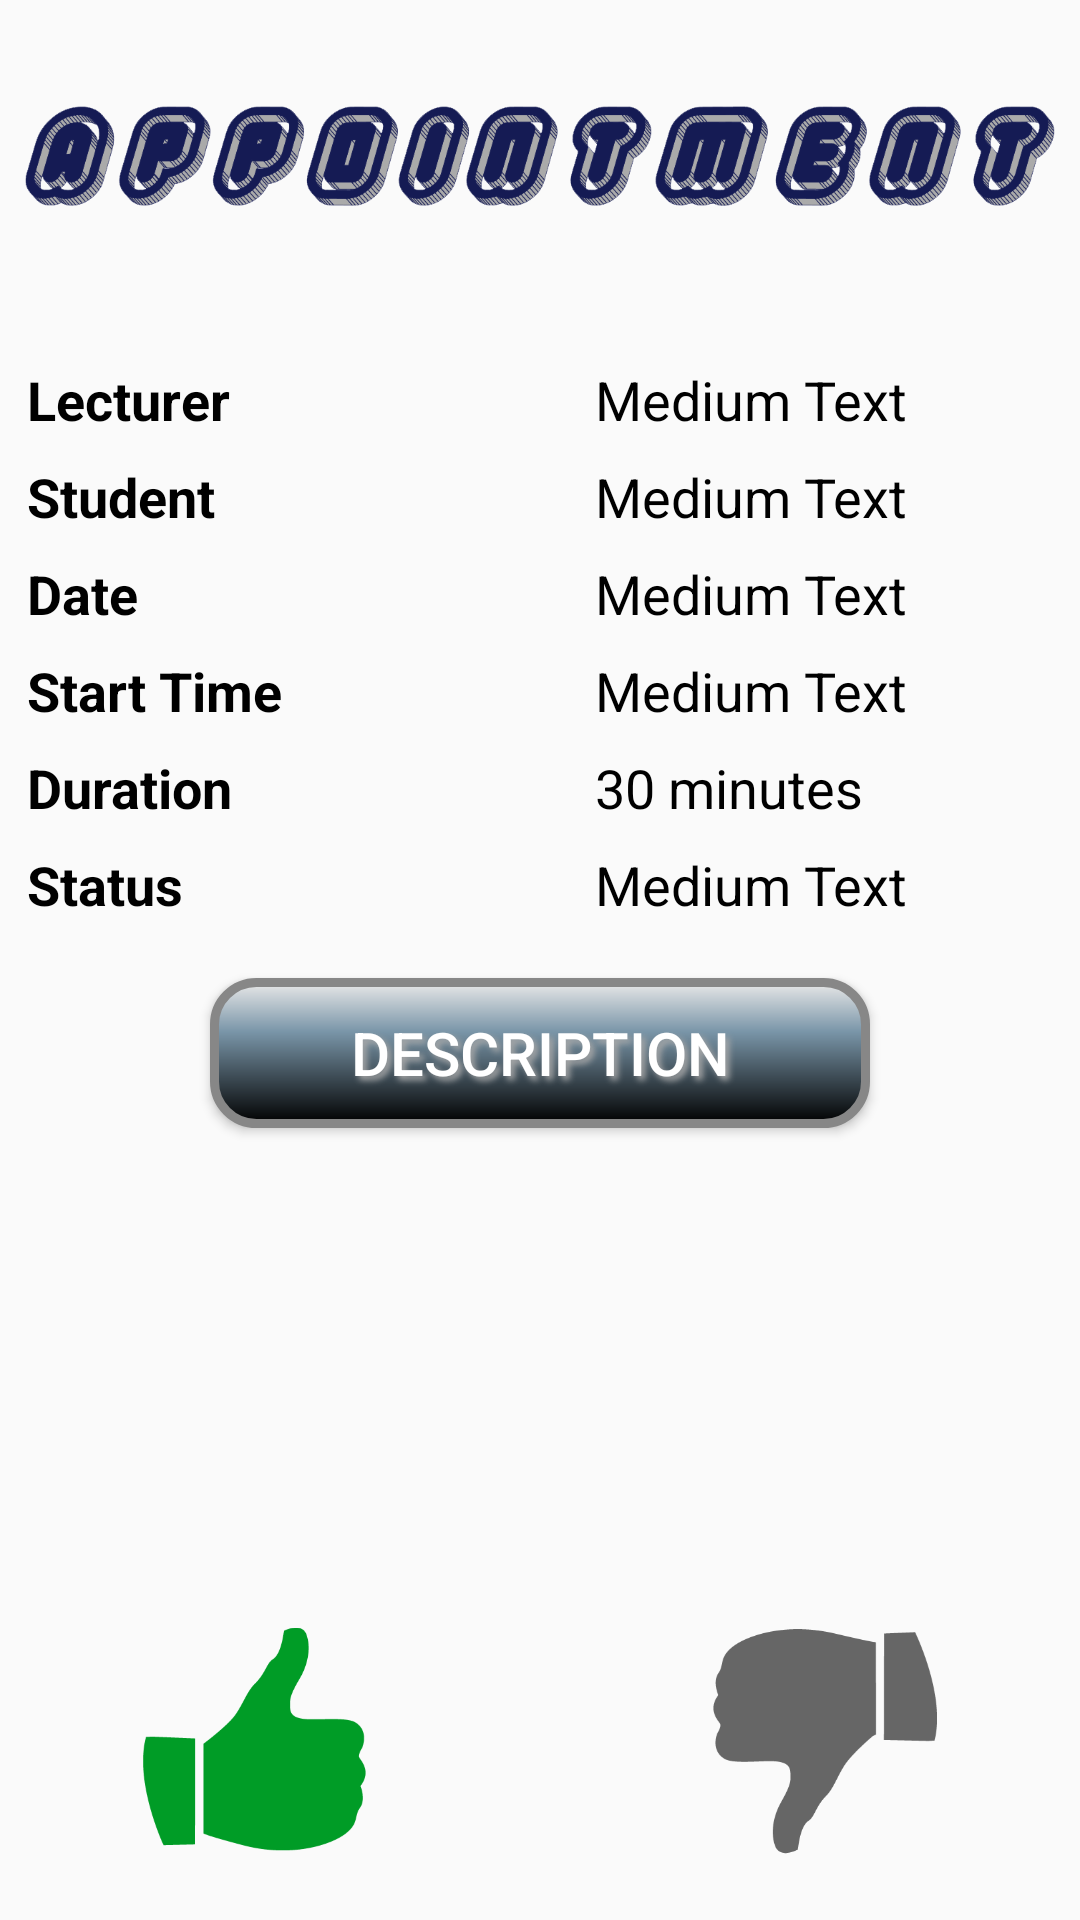

Icon bounding boxes for this 1080×1920 phone screenshot, format (x1, y1, x2, y2):
approve: (143, 1628, 366, 1851)
disapprove: (713, 1629, 937, 1854)
